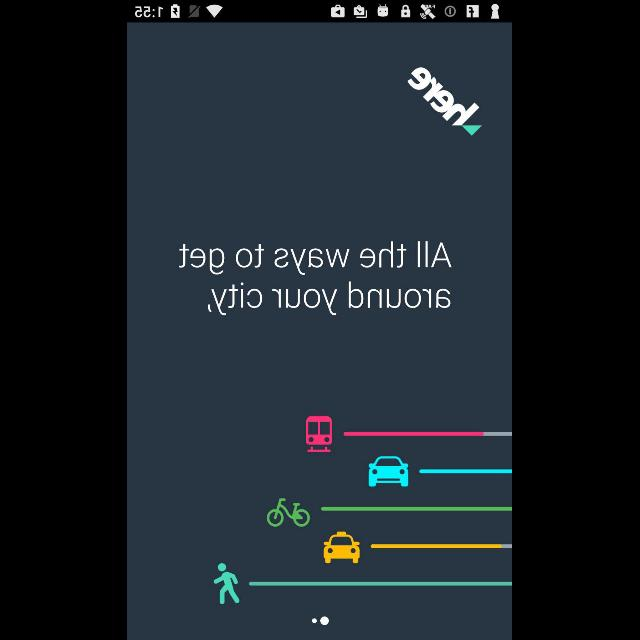image: (213, 417, 513, 606), (409, 67, 483, 136)
pageindicator: (312, 616, 330, 626)
text: (180, 240, 452, 316)
uppertaskbar: (128, 1, 512, 23)
